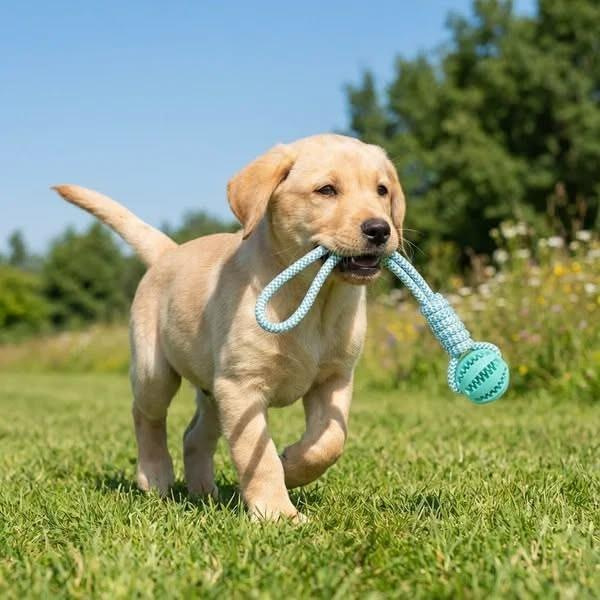puppy-dog: (48, 135, 406, 530)
